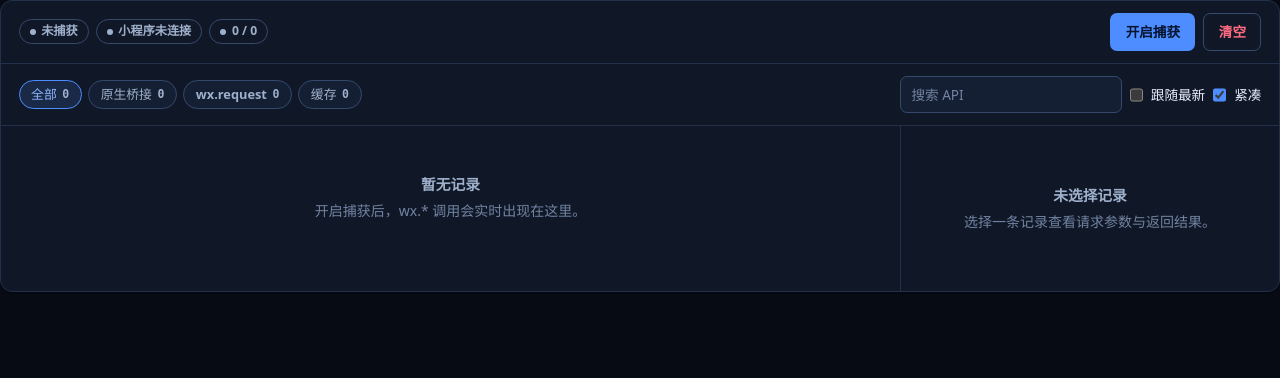
Test: WxApiView › resets the capture state and shows the reason when starting fails
The width and height of the screenshot is (1280, 378).
Step 1. Click the button with test id "wxapi-toggle" → (1153, 32), box [1110, 13, 1196, 51]
Wait 4000 ms
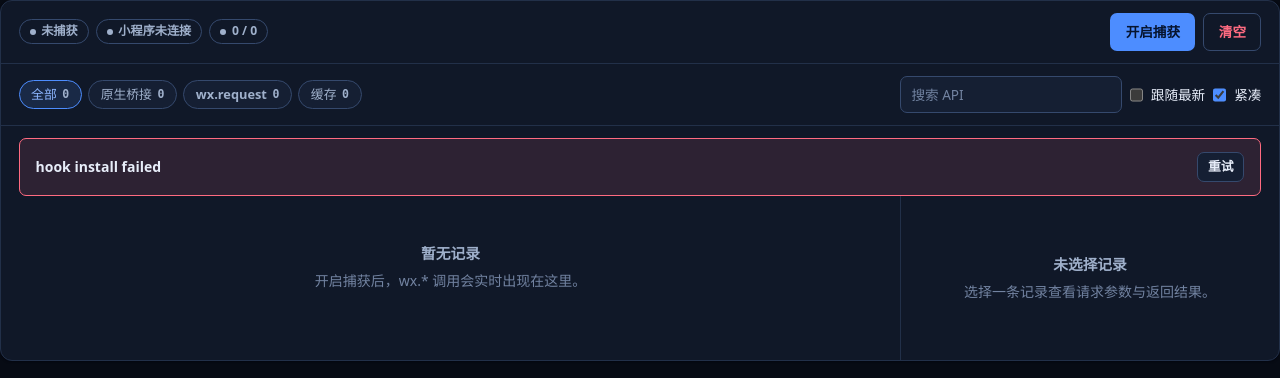
Expected: the message "hook install failed 重试" is shown, [19, 138, 1261, 196]
